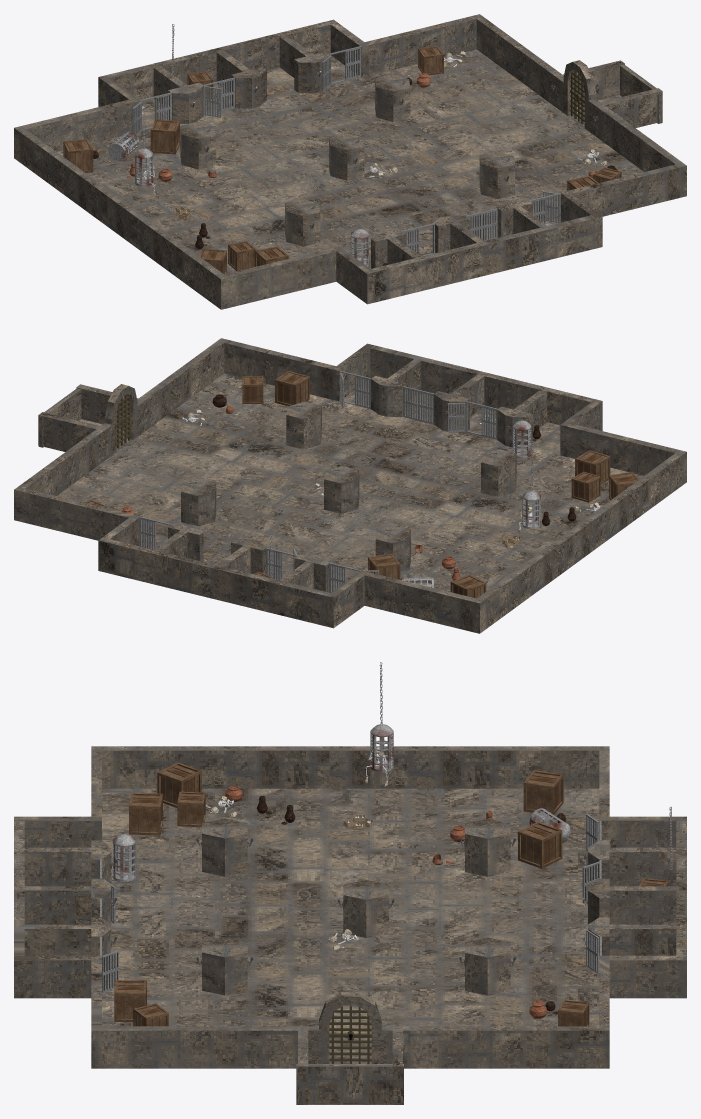
File: TutorialThrowingRoom.glb
3 renders of one model, top to bottom at view 1: azimuth 30°, elevation 25°; view 2: azimuth 150°, elevation 25°; view 3: azimuth 270°, elevation 25°, orthographic. The views are drawn at different scales.
Parts seen in each view (by area): view 1: WALLS, FLOOR, kraty_7, kraty_8, NextRoom, kraty_9, kraty_3, kraty, Cube.007, klatka_3, Exit Gate, klatka_5.001 (+2 smaller); view 2: WALLS, FLOOR, kraty_2, kraty, NextRoom, kraty_3, klatka_5, klatka_3, Exit Gate, kraty_7, kraty_8, Cube.002_cell.004 (+1 smaller); view 3: FLOOR, WALLS, NextRoom, Exit Gate, klatka_5, klatka_3, Cube.004_cell.004, Cube.000_cell.004, Cube.001_cell.003, Cube.007, Cube.003_cell.001.
Boxes of the visible parts, x1,y1,x2,y2 form: WALLS: (14, 14, 686, 309); FLOOR: (57, 49, 643, 273); kraty_7: (203, 77, 234, 117); kraty_8: (322, 46, 361, 90); NextRoom: (620, 64, 662, 123); kraty_9: (131, 92, 171, 134); kraty_3: (529, 191, 560, 225); kraty: (466, 208, 497, 241); Cube.007: (418, 46, 443, 75); klatka_3: (134, 148, 153, 186); Exit Gate: (570, 70, 584, 124); klatka_5.001: (108, 131, 138, 160); WALLS: (14, 338, 686, 633); FLOOR: (57, 373, 643, 591); kraty_2: (448, 401, 497, 439); kraty: (403, 386, 434, 424); NextRoom: (38, 388, 81, 447); kraty_3: (339, 371, 370, 408); klatka_5: (512, 420, 531, 458); klatka_3: (522, 490, 540, 528); Exit Gate: (116, 394, 131, 448); kraty_7: (266, 548, 297, 580); kraty_8: (139, 516, 171, 549); Cube.002_cell.004: (373, 553, 400, 579); FLOOR: (102, 788, 599, 1104); WALLS: (14, 746, 686, 1104); NextRoom: (296, 1064, 403, 1104); Exit Gate: (329, 1005, 371, 1063); klatka_5: (112, 834, 135, 881); klatka_3: (370, 724, 393, 772); Cube.004_cell.004: (129, 801, 160, 835); Cube.000_cell.004: (114, 985, 146, 1017); Cube.001_cell.003: (523, 773, 556, 807); Cube.007: (558, 999, 589, 1026); Cube.003_cell.001: (157, 768, 195, 793).
Bounding box in the file's own units: 36 × 7.72 × 32.
15 materials, 11 textured.
